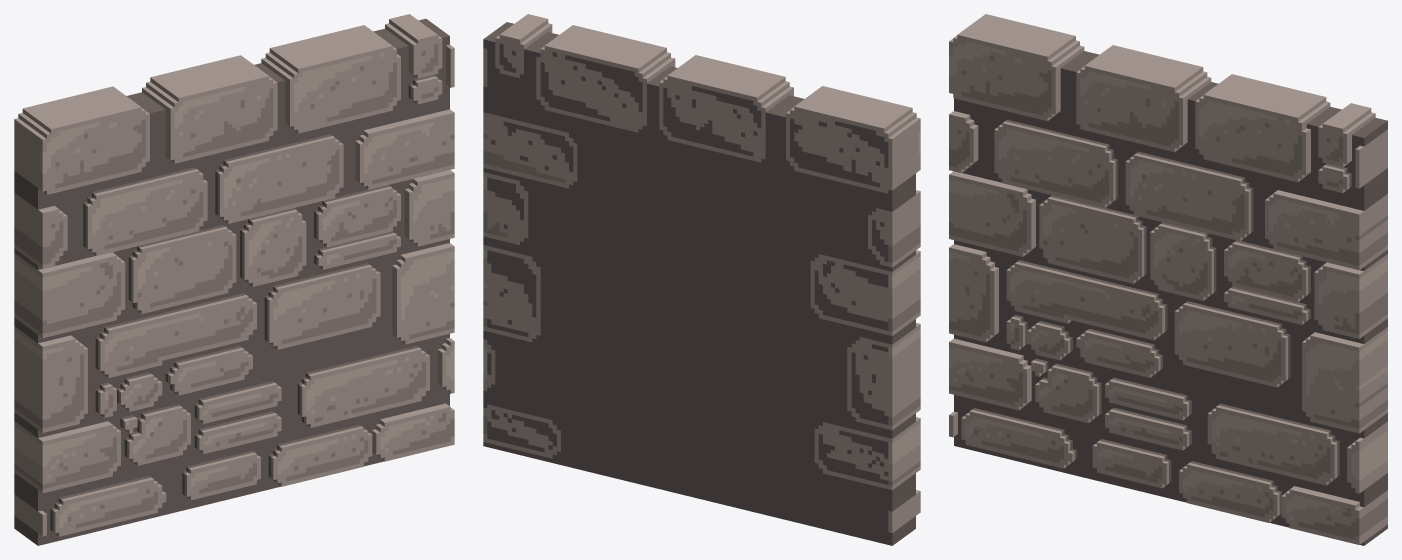
Rendered from GGJ walls 2.1.obj.
3 renders of one model, left to right at view 1: azimuth 30°, elevation 25°; view 2: azimuth 150°, elevation 25°; view 3: azimuth 330°, elevation 25°, orthographic.
Size of the model in its own units: 10 by 9.7 by 1.2.
Materials: 1 (1 with a texture image).
